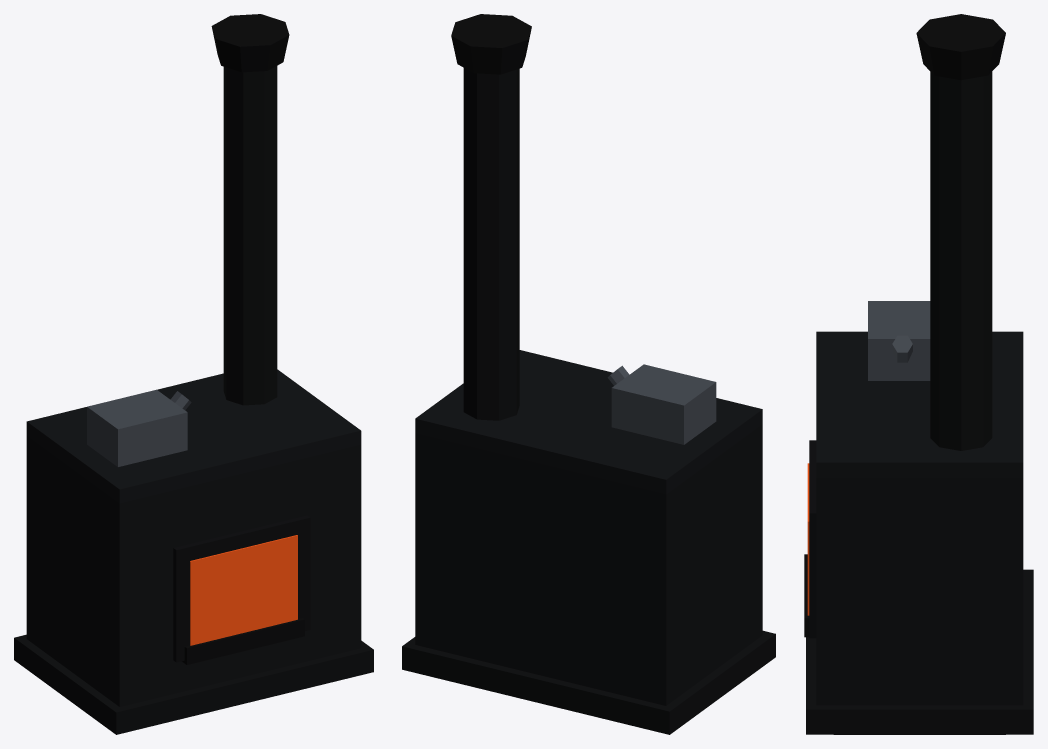
File: stove.obj
3 renders of one model, left to right at view 1: azimuth 30°, elevation 25°; view 2: azimuth 150°, elevation 25°; view 3: azimuth 270°, elevation 25°, orthographic. The views are drawn at different scales.
Size of the model in its own units: 0.96 by 2.17 by 0.665.
